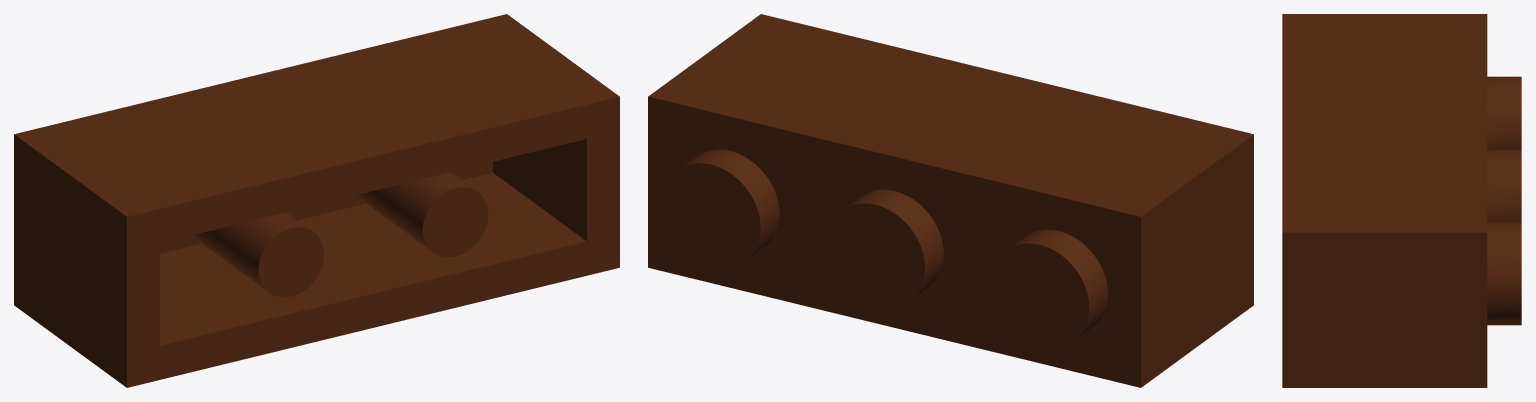
The model's file is tierritaFlorespeque1.dae.
The picture shows the model from 3 angles, left to right: view 1: azimuth 30°, elevation 25°; view 2: azimuth 150°, elevation 25°; view 3: azimuth 270°, elevation 25°; orthographic projection. The views are drawn at different scales.
Visible parts, largest first — view 1: Inner-Node-palmera___28_1_29__dot_io-0; view 2: Inner-Node-palmera___28_1_29__dot_io-0; view 3: Inner-Node-palmera___28_1_29__dot_io-0.
Boxes of the visible parts, <box> form: Inner-Node-palmera___28_1_29__dot_io-0: <box>14,14,619,387</box>; Inner-Node-palmera___28_1_29__dot_io-0: <box>648,14,1253,387</box>; Inner-Node-palmera___28_1_29__dot_io-0: <box>1282,14,1521,387</box>.
Bounding box in the file's own units: 59.75 × 19.82 × 27.65.
